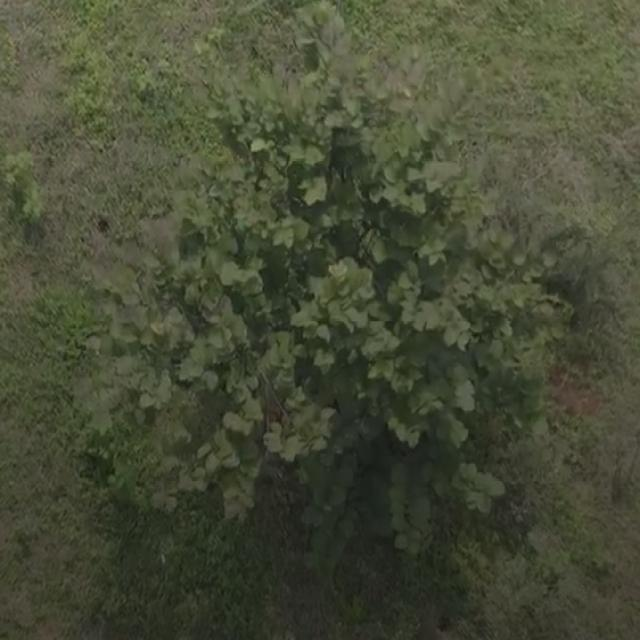notMangoTree: (83, 15, 573, 600)
